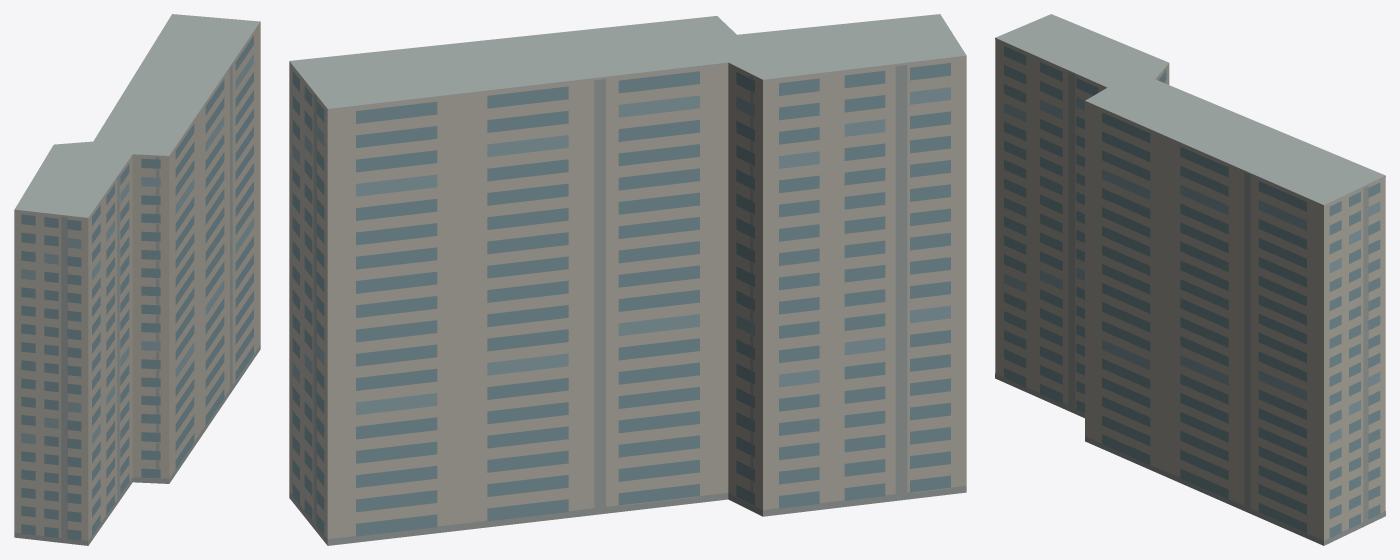
File: residential-4728e59e-829a-4a4d-bb4f-89083b9a4ddd.glb
The picture shows the model from 3 angles, left to right: view 1: azimuth 30°, elevation 25°; view 2: azimuth 150°, elevation 25°; view 3: azimuth 270°, elevation 25°; orthographic projection. The views are drawn at different scales.
Visible parts, largest first — view 1: residential-4728e59e-829a-4a4d-bb4f-89083b9a4ddd.tmp; view 2: residential-4728e59e-829a-4a4d-bb4f-89083b9a4ddd.tmp; view 3: residential-4728e59e-829a-4a4d-bb4f-89083b9a4ddd.tmp.
Boxes of the visible parts, <box> form: residential-4728e59e-829a-4a4d-bb4f-89083b9a4ddd.tmp: <box>14,14,260,545</box>; residential-4728e59e-829a-4a4d-bb4f-89083b9a4ddd.tmp: <box>289,14,966,545</box>; residential-4728e59e-829a-4a4d-bb4f-89083b9a4ddd.tmp: <box>995,14,1385,545</box>.
Size of the model in its own units: 57.78 by 48 by 49.88.
